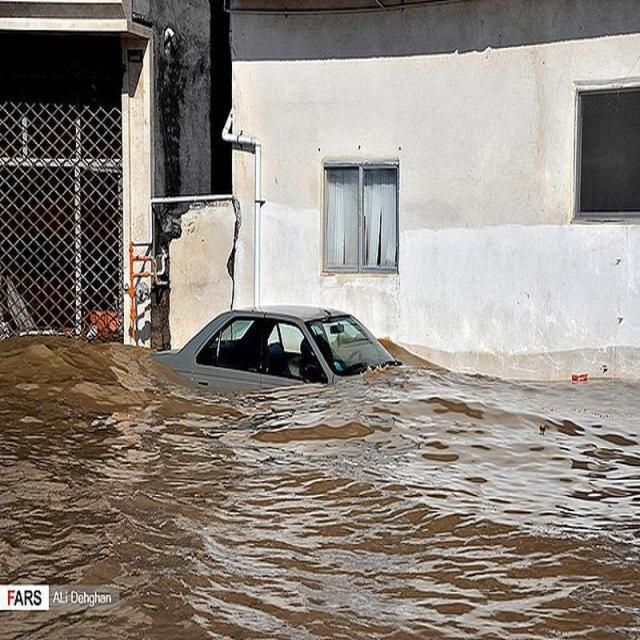water: (2, 338, 639, 637)
